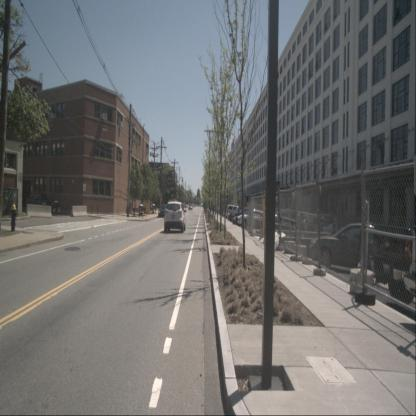human-pedestrian-adult: (215, 204, 217, 214)
movable_object-barrier: (25, 204, 53, 219), (70, 205, 88, 218)
vehicle-car: (310, 224, 397, 272), (254, 214, 290, 236), (164, 201, 186, 233), (296, 211, 324, 232), (237, 210, 266, 229), (323, 221, 349, 239), (230, 208, 260, 223), (232, 211, 260, 226), (226, 204, 244, 219), (158, 204, 169, 218), (188, 204, 192, 211)
vehicle-truck: (369, 211, 416, 304), (26, 192, 53, 215)
